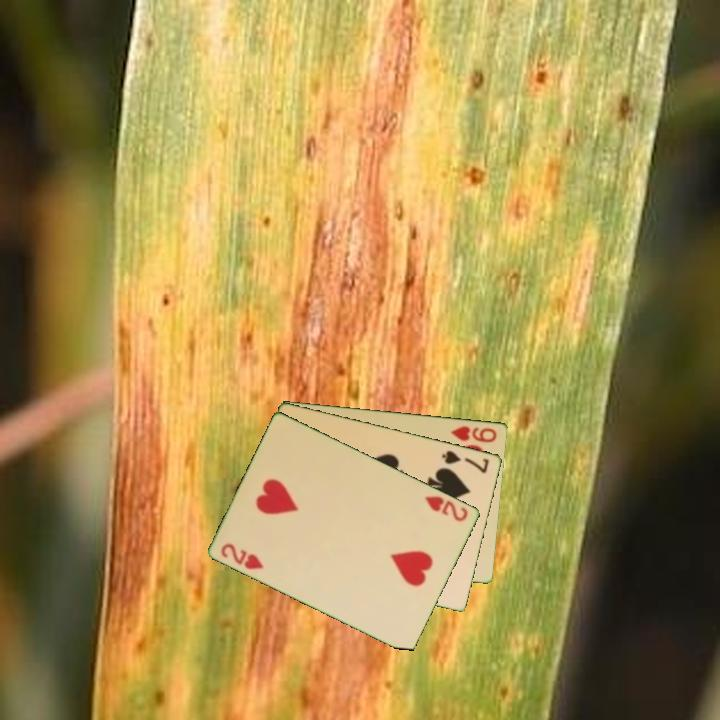2h: (421, 492, 471, 524), (218, 540, 266, 572)
7s: (439, 447, 492, 476)
9h: (448, 422, 500, 445)
